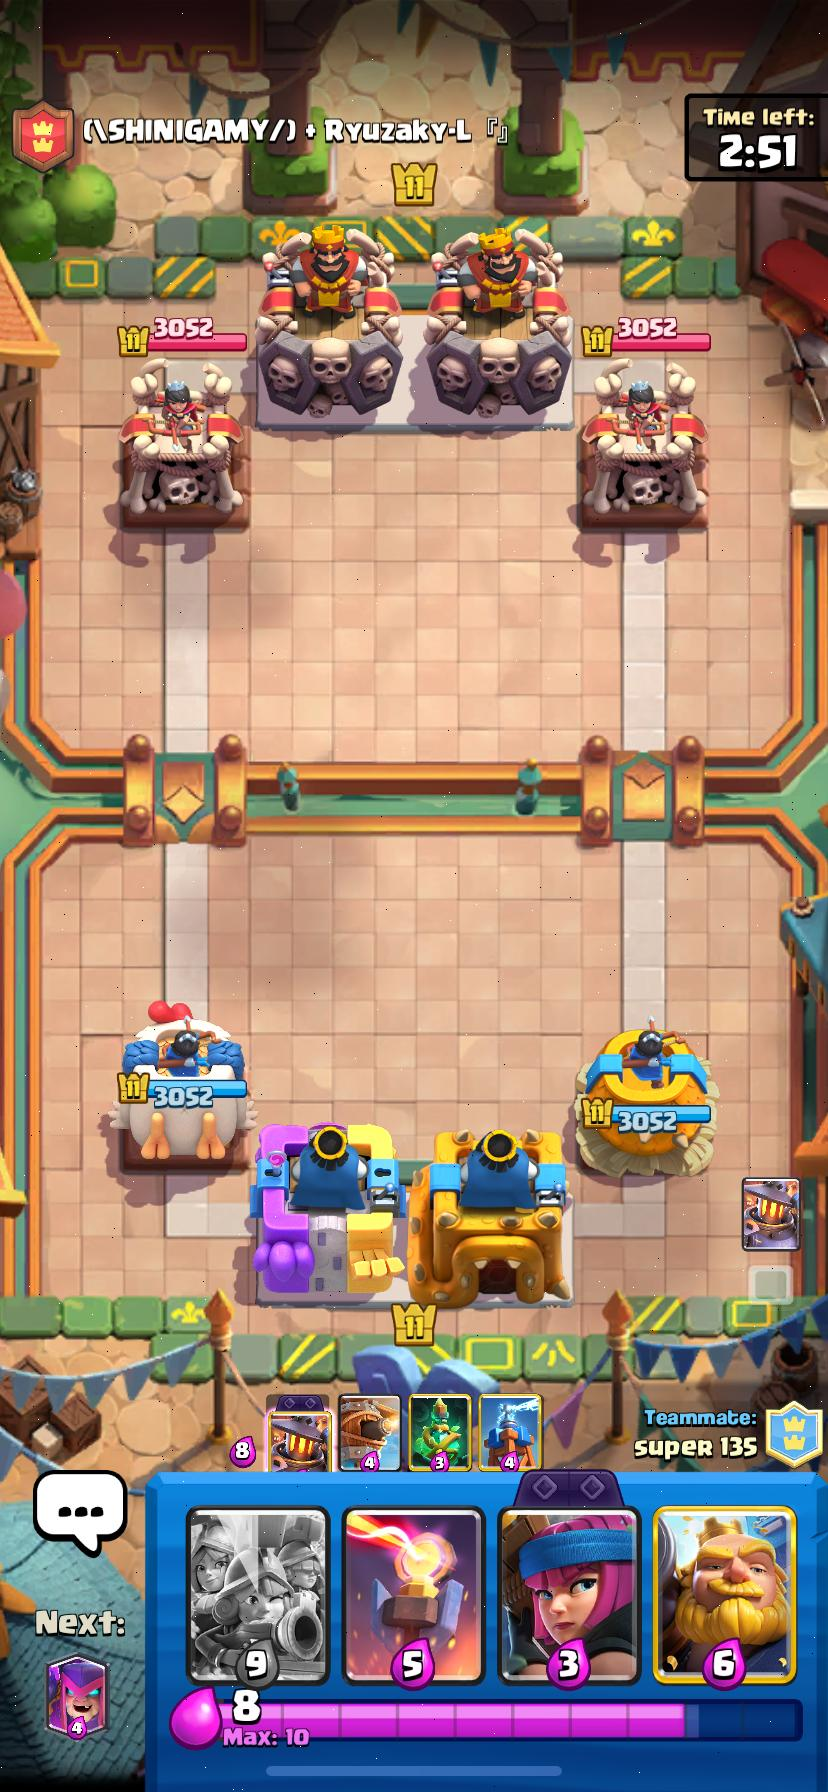EKingTower: (256, 224, 400, 417), (425, 227, 570, 417)
EnemyPrincessTower: (580, 363, 707, 522), (120, 365, 242, 521)
OwnKingTower: (407, 1129, 571, 1306), (253, 1123, 401, 1302)
OwnPrincessTower: (578, 1018, 716, 1173), (117, 1017, 253, 1159)
